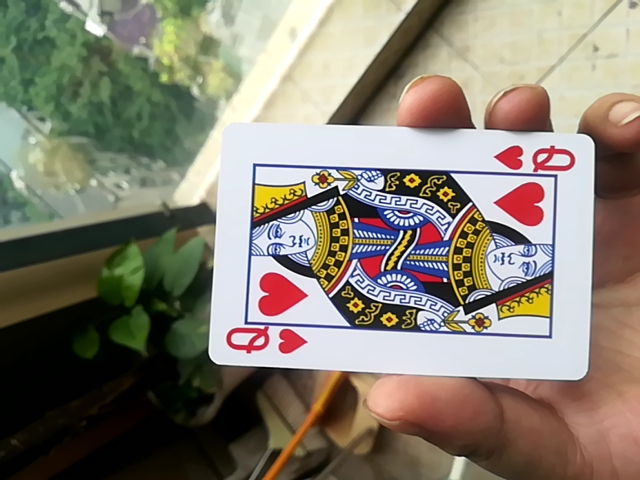hx q: (199, 120, 607, 384)
